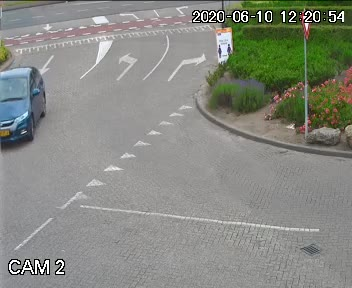car: (0, 58, 55, 156)
